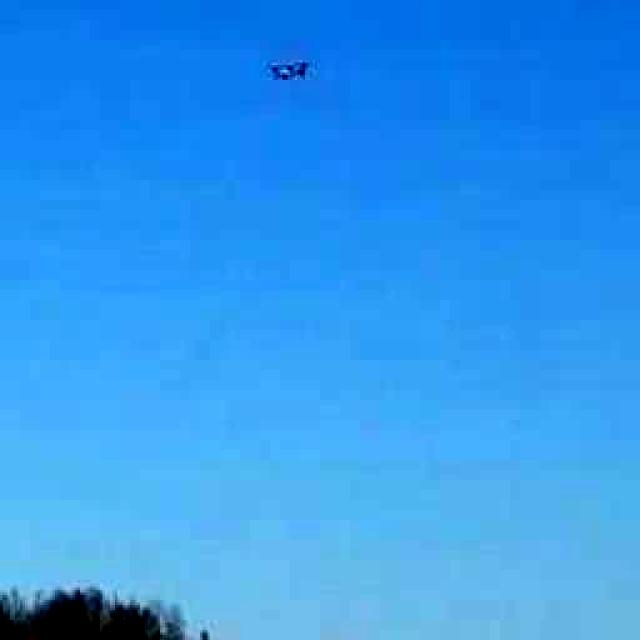bird: (250, 34, 338, 99)
